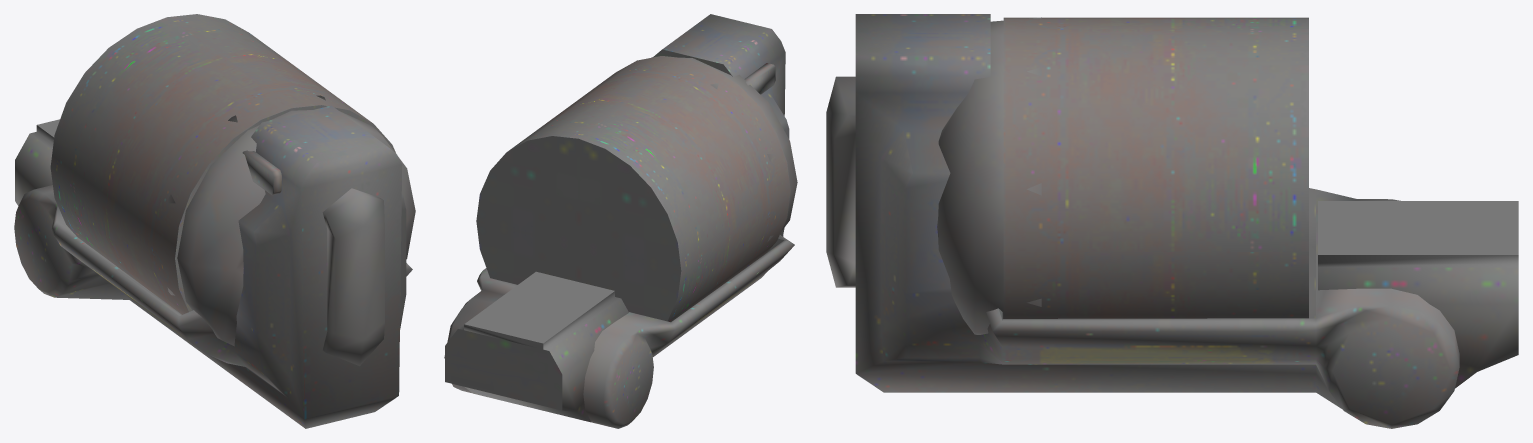
File: mag4.obj
3 views of the same model, side by side, from view 1: azimuth 30°, elevation 25°; view 2: azimuth 150°, elevation 25°; view 3: azimuth 270°, elevation 25° (orthographic). The views are drawn at different scales.
Parts seen in each view (by area): view 1: mag4; view 2: mag4; view 3: mag4.
Boxes of the visible parts, x1=… form: mag4: x1=14, y1=14, x2=415, y2=428; mag4: x1=444, y1=14, x2=797, y2=428; mag4: x1=826, y1=14, x2=1518, y2=428.
Bounding box in the file's own units: 10.05 × 11.48 × 21.
